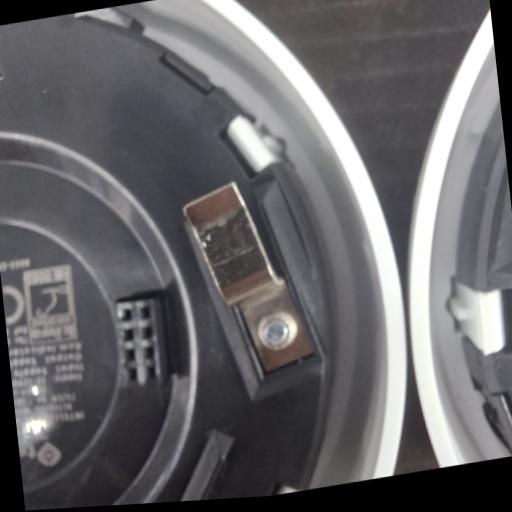yaysiz: (178, 168, 318, 391)
